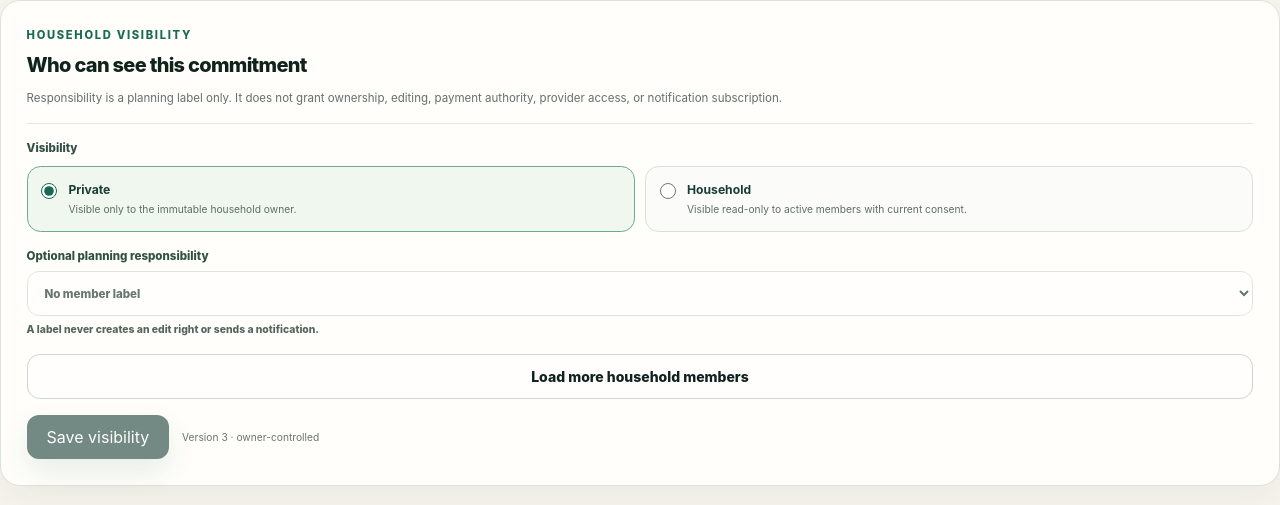
Test: CommitmentSharingPanel › loads another member page for the owner responsibility control
Click the button "Load more household members" at (640, 377), box [27,354,1253,399]
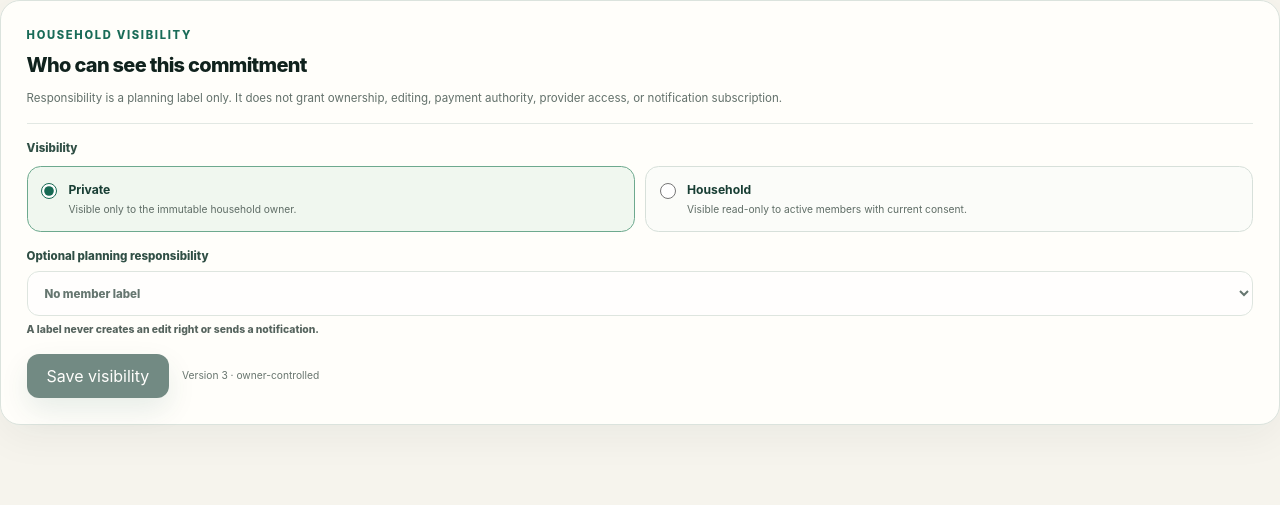
Expected: the button "Load more household members" is gone
